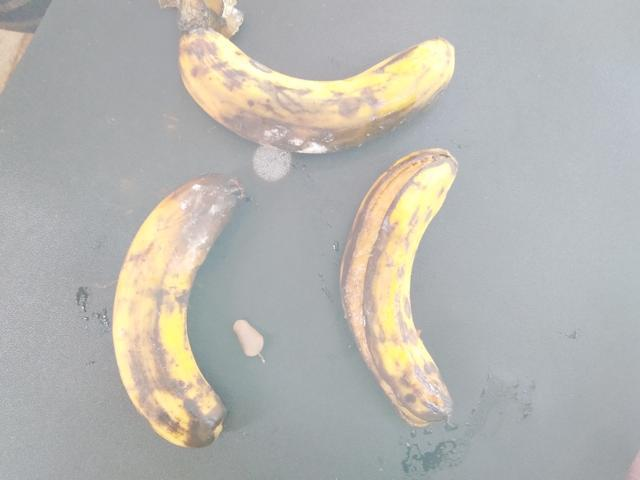rotten: (153, 0, 458, 157), (341, 131, 484, 440), (101, 163, 248, 445)
